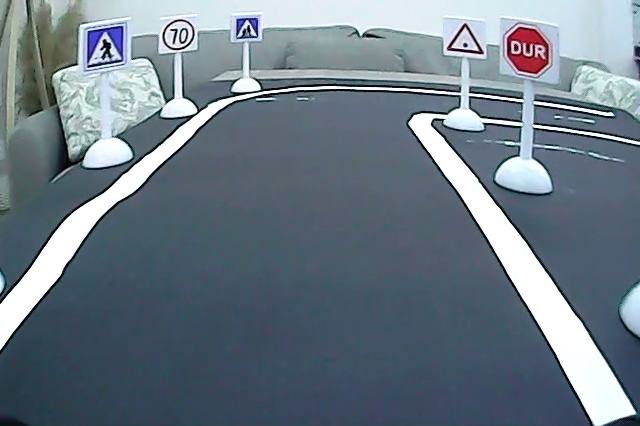green light: (446, 20, 485, 58)
pedestrian crossing: (83, 23, 127, 72)
school crossing: (234, 16, 260, 40)
speed limit 70: (162, 18, 196, 53)
stop sign: (501, 22, 554, 80)
